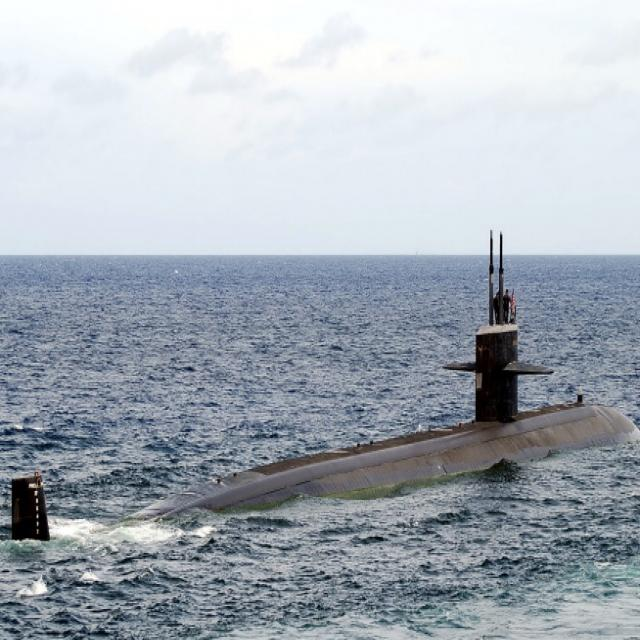submarine: (13, 229, 640, 540)
